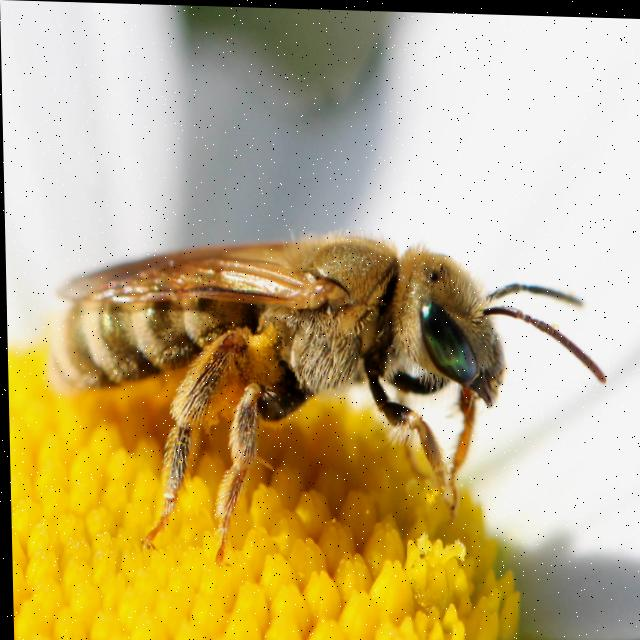Seladonia: (32, 218, 591, 497)
